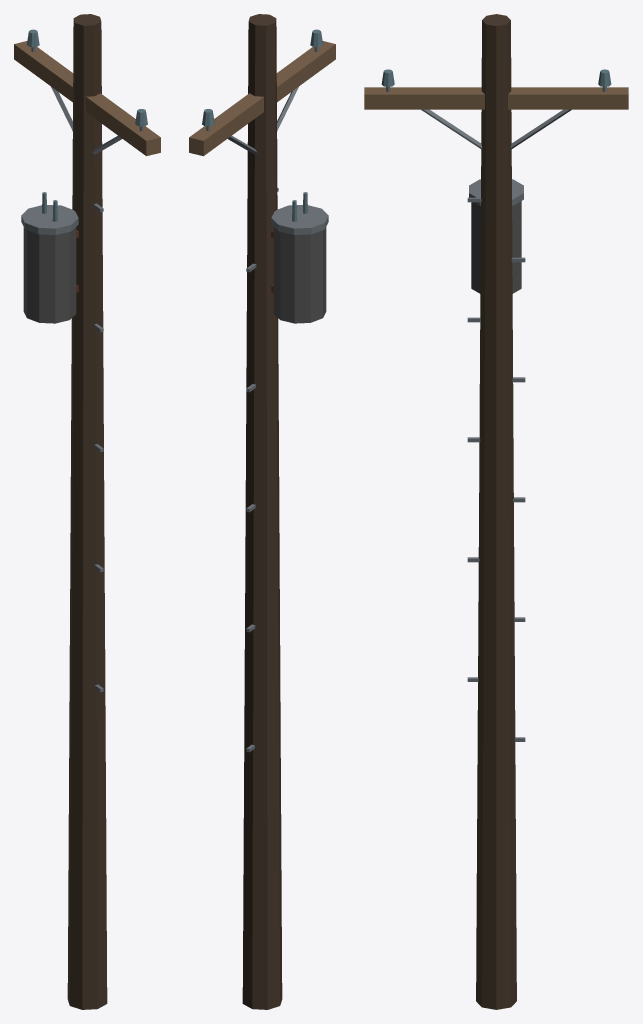
The model's file is power_pole.glb.
3 views of the same model, side by side, from view 1: azimuth 30°, elevation 25°; view 2: azimuth 150°, elevation 25°; view 3: azimuth 270°, elevation 25° (orthographic).
Parts seen in each view (by area): view 1: power_pole; view 2: power_pole; view 3: power_pole.
Part boxes in pixels (left/top/right/bottom): power_pole: left=14, top=14, right=160, bottom=1009; power_pole: left=189, top=14, right=335, bottom=1009; power_pole: left=364, top=14, right=628, bottom=1009.
Size of the model in its own units: 0.77 by 9 by 2.2.
Materials: 3 (3 with a texture image).
